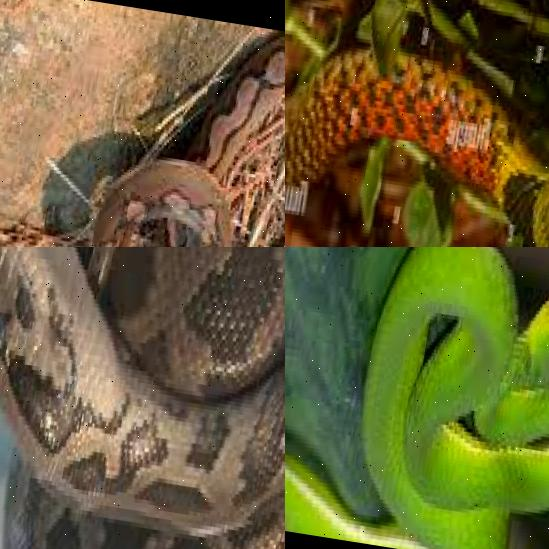2: (285, 18, 549, 247)
3: (0, 0, 285, 247)
4: (285, 247, 549, 549)
snake: (0, 247, 285, 549)
